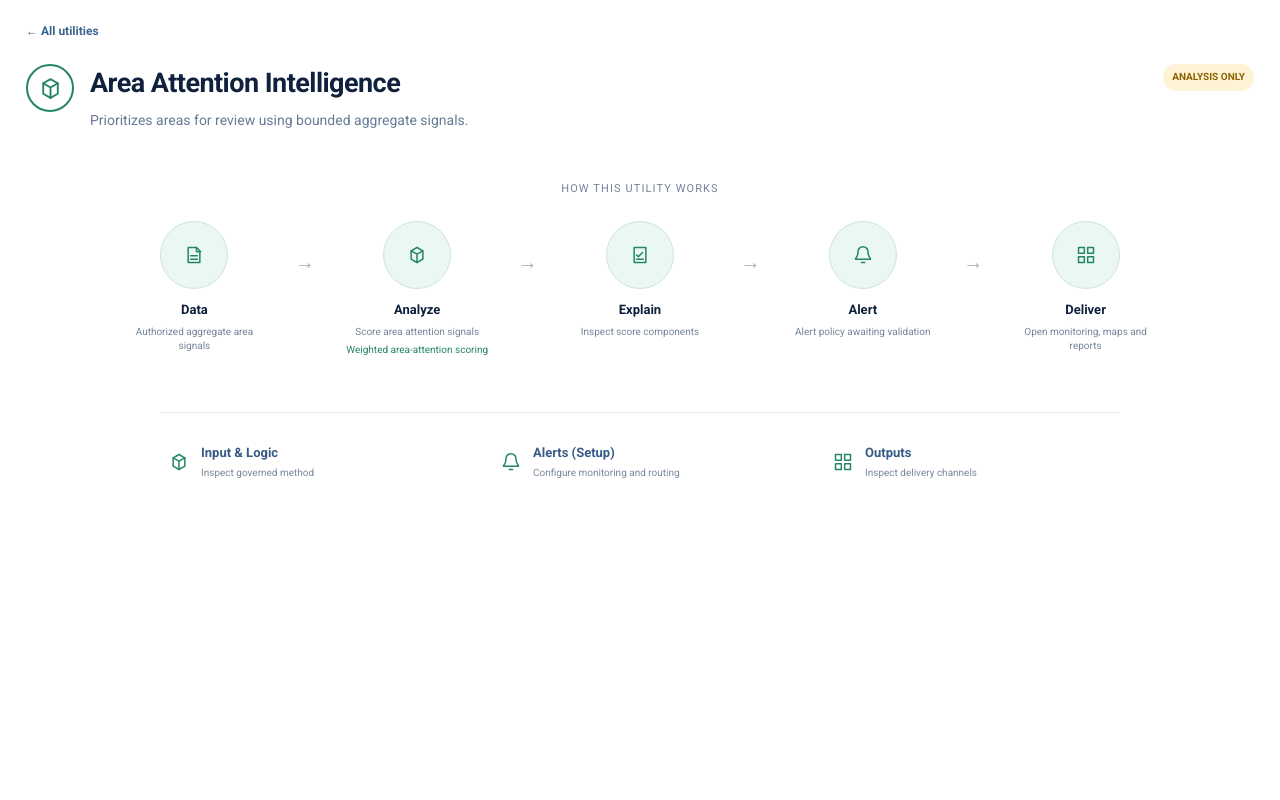
Scenario: shows Alerts (Setup) for the COMMAND_CENTER utility experience
The image size is (1280, 800).
Expected: the heading "Area Attention Intelligence" is shown, [90,67,400,99]
Click the button "Alerts (Setup)" at (574, 452), box [492,435,788,489]
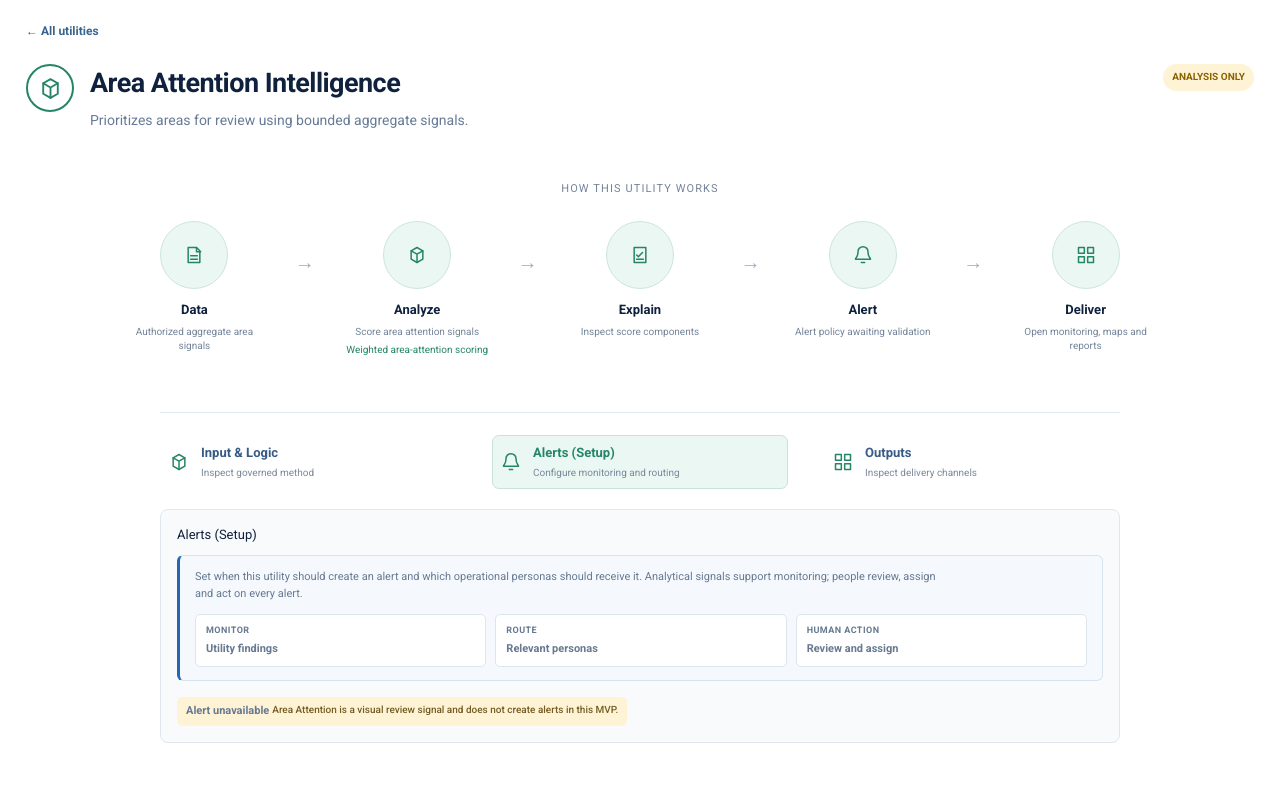
Result: the element "Alerts (Setup)" shows "Alert unavailable" at [186,704,269,717]
Result: the element "Alerts (Setup)" shows "does not create alerts in this MVP" at [272,704,618,715]
